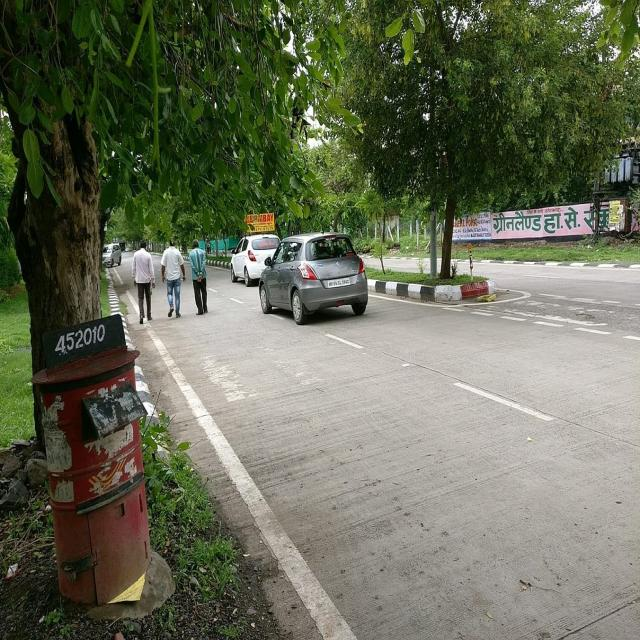Clean road: (132, 284, 640, 640)
